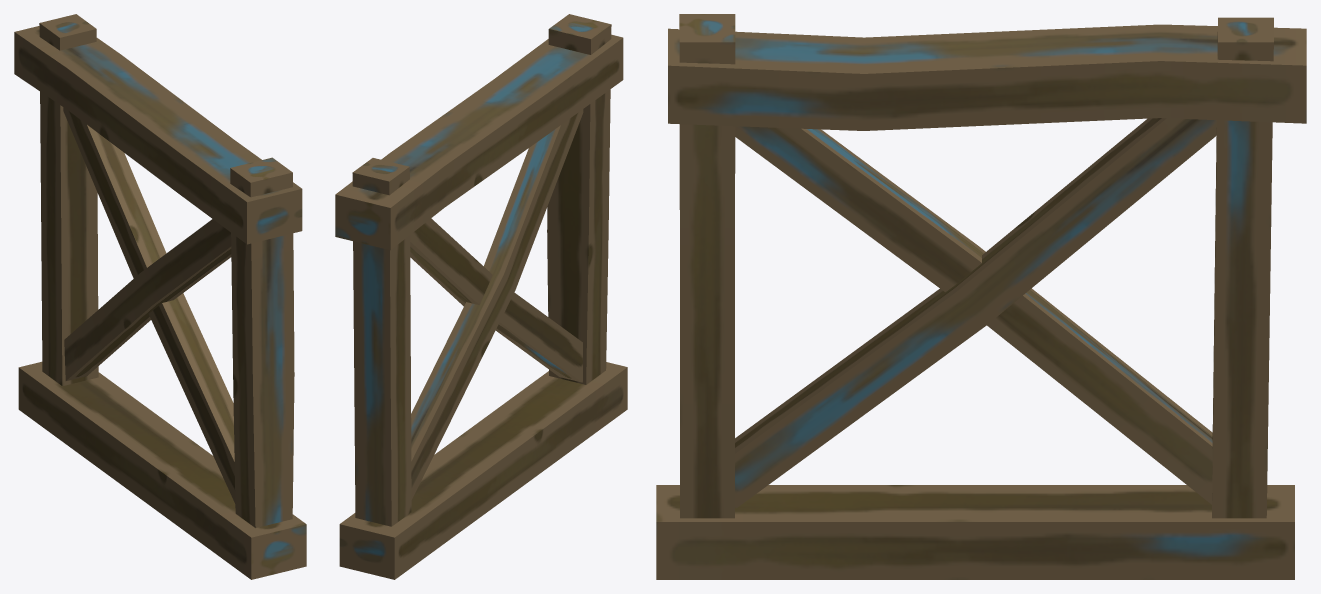
File: P_WoodFence_C.FBX
3 views of the same model, side by side, from view 1: azimuth 30°, elevation 25°; view 2: azimuth 150°, elevation 25°; view 3: azimuth 270°, elevation 25° (orthographic). The views are drawn at different scales.
Parts seen in each view (by area): view 1: P_WoodFence_C; view 2: P_WoodFence_C; view 3: P_WoodFence_C.
Boxes of the visible parts, x1=… form: P_WoodFence_C: x1=14, y1=14, x2=306, y2=579; P_WoodFence_C: x1=335, y1=14, x2=627, y2=579; P_WoodFence_C: x1=656, y1=14, x2=1306, y2=579.
Size of the model in its own units: 17.18 by 108 by 119.
